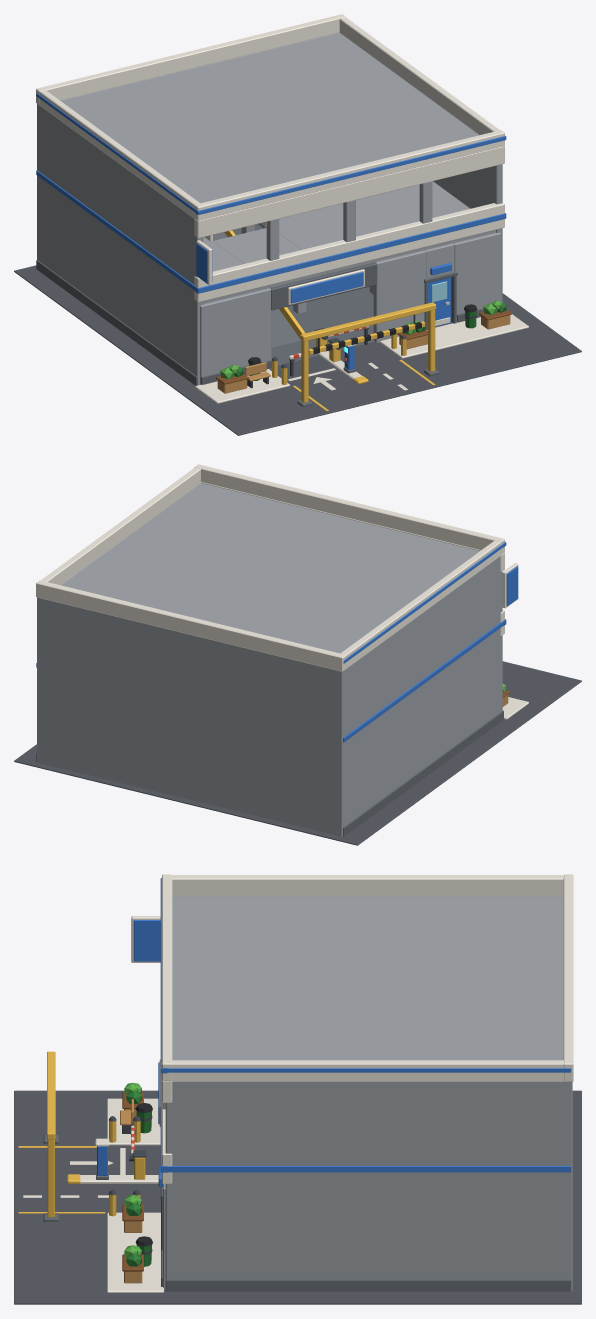
File: parking-garage-entrance.glb
3 views of the same model, one above another, from view 1: azimuth 30°, elevation 25°; view 2: azimuth 150°, elevation 25°; view 3: azimuth 270°, elevation 25° (orthographic). The views are drawn at different scales.
Parts seen in each view (by area): view 1: Slab_Roof, Wall_Side_L, Ground_Asphalt, Band_L1_Parapet, Slab_L1_B, Band_Roof, Parapet_Back, Wall_Front_L, Parapet_Front, Floor_Ground, Wall_Front_R_A, Wall_Front_R_B (+20 smaller); view 2: Wall_Back, Slab_Roof, Wall_Side_L, Ground_Asphalt, Parapet_Back, Parapet_Front, Parapet_R, Parapet_L, Band_Base_L, Wall_Side_R, Band_Stripe_Low_L, Band_Stripe_Top_L (+1 smaller); view 3: Wall_Side_R, Slab_Roof, Ground_Asphalt, Parapet_L, Parapet_R, Band_Base_R, Sidewalk_R, Band_Stripe_Low_R, Parapet_Back, Parapet_Front, Band_Stripe_Top_R, Sidewalk_L (+4 smaller).
Boxes of the visible parts, x1,y1,x2,y2 form: Slab_Roof: (61,33,478,203); Wall_Side_L: (37,104,203,385); Ground_Asphalt: (14,265,581,435); Band_L1_Parapet: (194,203,504,302); Slab_L1_B: (258,181,495,273); Band_Roof: (194,146,504,238); Parapet_Back: (36,14,345,105); Wall_Front_L: (200,288,271,384); Parapet_Front: (194,130,504,220); Floor_Ground: (232,224,452,365); Wall_Front_R_A: (373,250,425,343); Wall_Front_R_B: (453,232,501,321); Wall_Back: (42,599,336,835); Slab_Roof: (61,483,479,653); Wall_Side_L: (336,556,502,836); Ground_Asphalt: (14,661,581,845); Parapet_Back: (36,580,346,671); Parapet_Front: (194,464,504,554); Parapet_R: (41,467,200,585); Parapet_L: (340,540,500,668); Band_Base_L: (343,710,503,836); Wall_Side_R: (37,483,200,763); Band_Stripe_Low_L: (343,621,503,742); Band_Stripe_Top_L: (343,544,503,663); Wall_Side_R: (165,1081,572,1291); Slab_Roof: (172,897,563,1060); Ground_Asphalt: (14,1090,581,1304); Parapet_L: (171,875,563,896); Parapet_R: (171,1060,563,1081); Band_Base_R: (165,1279,571,1291); Sidewalk_R: (107,1212,163,1292); Band_Stripe_Low_R: (167,1166,571,1172); Parapet_Back: (563,874,573,1081); Parapet_Front: (162,874,172,1080); Band_Stripe_Top_R: (167,1068,571,1072); Sidewalk_L: (107,1098,160,1145).
Bounding box in the file's own units: 54 × 27.2 × 61.
